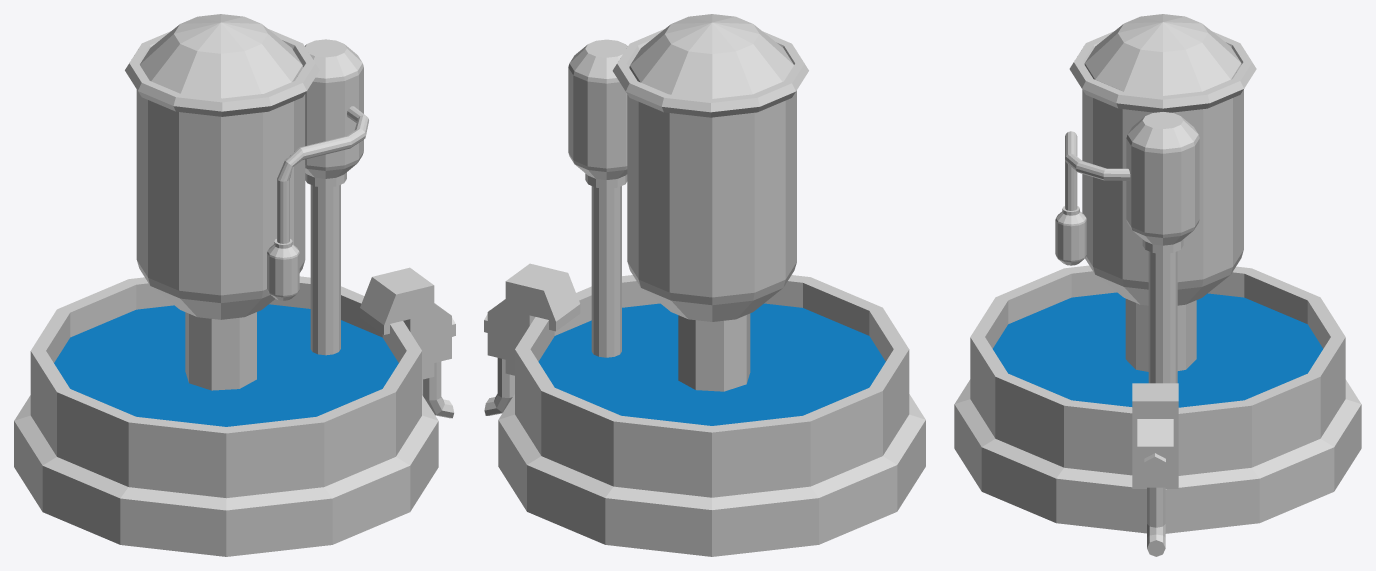
File: scifi_pool.fbx
The picture shows the model from 3 angles, left to right: view 1: azimuth 30°, elevation 25°; view 2: azimuth 150°, elevation 25°; view 3: azimuth 270°, elevation 25°; orthographic projection. The views are drawn at different scales.
Visible parts, largest first — view 1: Cylinder.004, Sphere, Cylinder, Sphere.001, Cube, Cylinder.003, Torus, Sphere.002, Cylinder.002; view 2: Cylinder.004, Sphere, Cylinder, Sphere.001, Cube, Cylinder.003, Torus, Cylinder.002; view 3: Cylinder.004, Sphere, Cylinder, Sphere.001, Cube, Torus, Sphere.002, Cylinder.003, Cylinder.002.
Boxes of the visible parts, x1,y1,x2,y2 form: Cylinder.004: [14, 276, 438, 556]; Sphere: [136, 14, 305, 319]; Cylinder: [54, 304, 398, 426]; Sphere.001: [305, 39, 363, 355]; Cube: [360, 267, 451, 379]; Cylinder.003: [185, 312, 256, 390]; Torus: [125, 29, 319, 116]; Sphere.002: [267, 106, 368, 300]; Cylinder.002: [422, 361, 454, 418]; Cylinder.004: [498, 275, 925, 556]; Sphere: [627, 14, 796, 321]; Cylinder: [538, 303, 885, 425]; Sphere.001: [568, 39, 627, 357]; Cube: [487, 263, 580, 375]; Cylinder.003: [678, 313, 750, 391]; Torus: [612, 29, 808, 117]; Cylinder.002: [484, 358, 514, 415]; Cylinder.004: [954, 265, 1361, 533]; Sphere: [1082, 14, 1243, 305]; Cylinder: [993, 292, 1322, 407]; Sphere.001: [1126, 112, 1199, 383]; Cube: [1132, 383, 1178, 488]; Torus: [1069, 31, 1256, 112]; Sphere.002: [1055, 131, 1130, 265]; Cylinder.003: [1125, 299, 1196, 371]; Cylinder.002: [1147, 487, 1165, 556].
Bounding box in the file's own units: 240 × 253 × 217.
